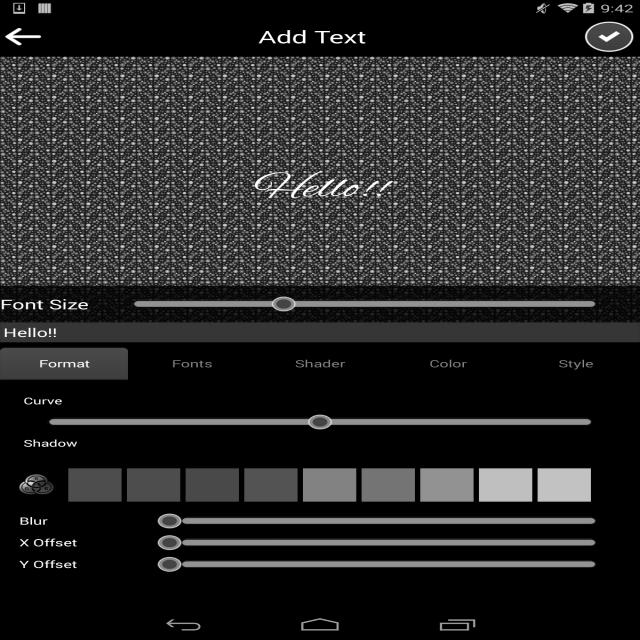Button: (0, 348, 128, 380), (128, 348, 256, 380), (256, 348, 384, 380), (384, 348, 512, 380), (512, 348, 640, 380)
EditText: (0, 322, 640, 342)
ImageView: (0, 57, 640, 322), (68, 468, 122, 502), (244, 468, 298, 502), (420, 468, 474, 502), (10, 468, 63, 502), (127, 468, 180, 502), (186, 468, 239, 502), (303, 468, 356, 502), (362, 468, 415, 502), (479, 468, 532, 502), (538, 468, 591, 502), (583, 20, 635, 53), (5, 28, 41, 45)
SeekBar: (15, 414, 625, 430), (100, 296, 629, 312), (148, 534, 629, 551), (148, 513, 629, 529), (148, 556, 629, 572)
TextView: (0, 142, 640, 237), (46, 25, 578, 48), (17, 534, 137, 551), (17, 513, 137, 529), (17, 556, 137, 572), (0, 295, 89, 313), (22, 435, 80, 451), (21, 393, 65, 408)
